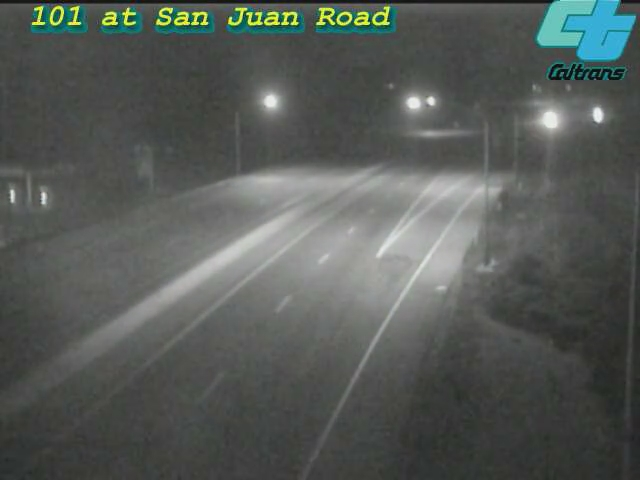vehicle: (525, 96, 575, 146), (572, 90, 622, 140)
